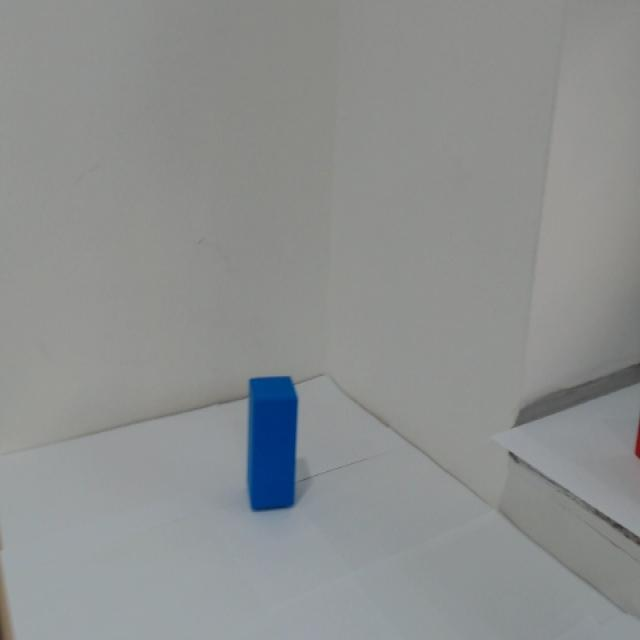cube: (239, 362, 323, 529)
